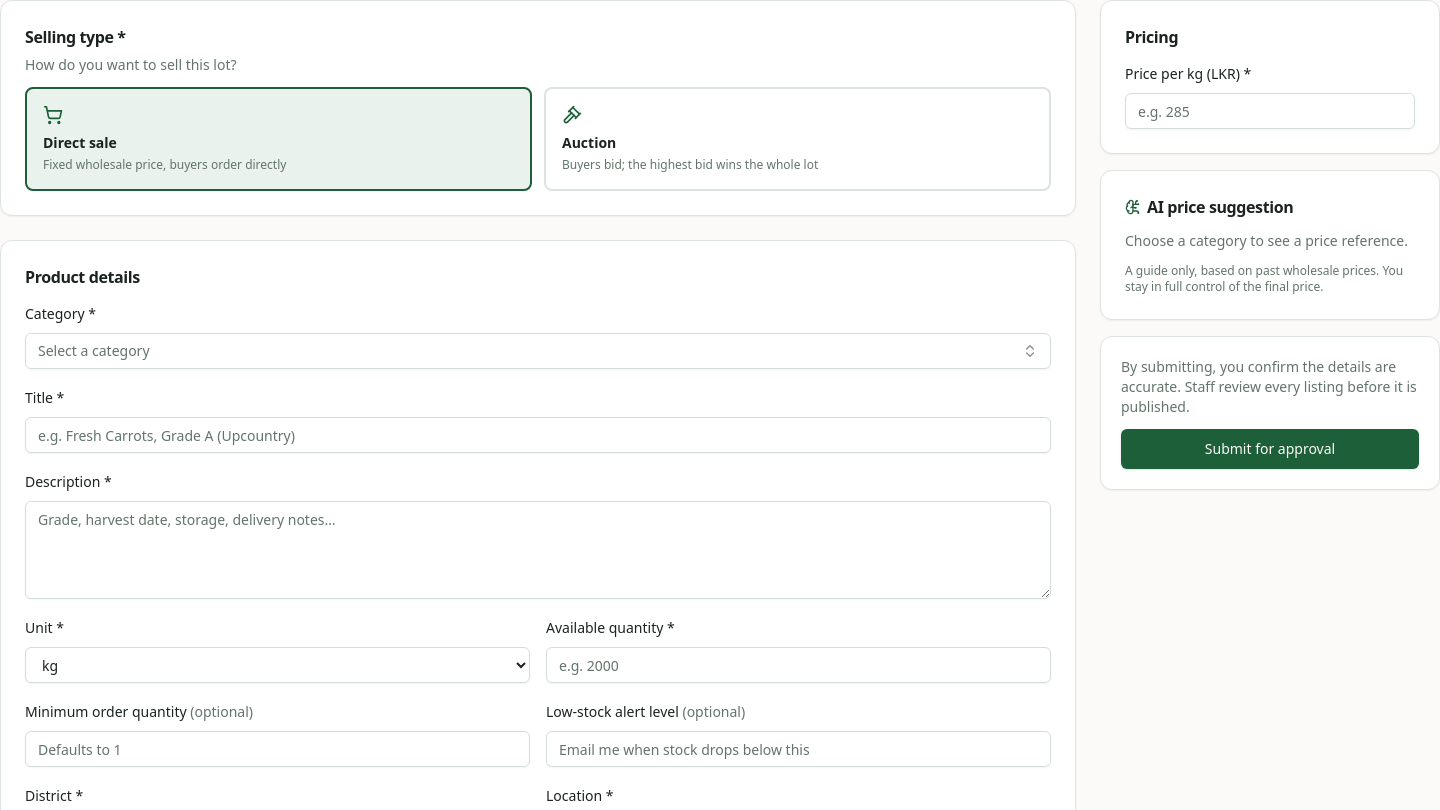
it: ListingForm: creating › switches to an auction: terms and rules appear, the direct price goes
Click the button "Auction Buyers bid; the highest bid wins the whole lot" at (589, 142), box [544,87,1051,191]
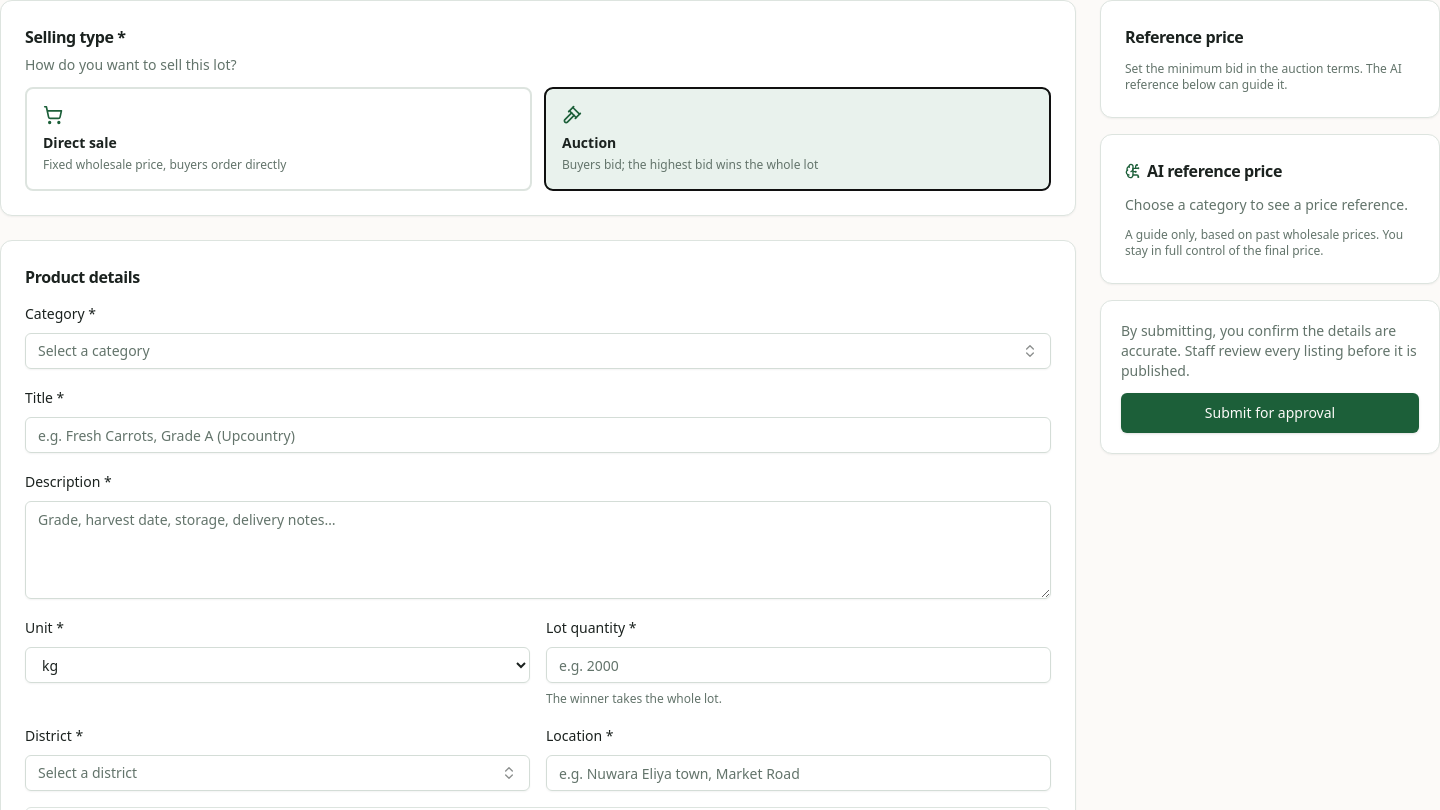
Check: the number field labelled "Lot quantity *" is shown, box [546,647,1051,683]
Check: the label labelled "Price per kg" is gone
Check: the label labelled "Minimum order quantity" is gone
